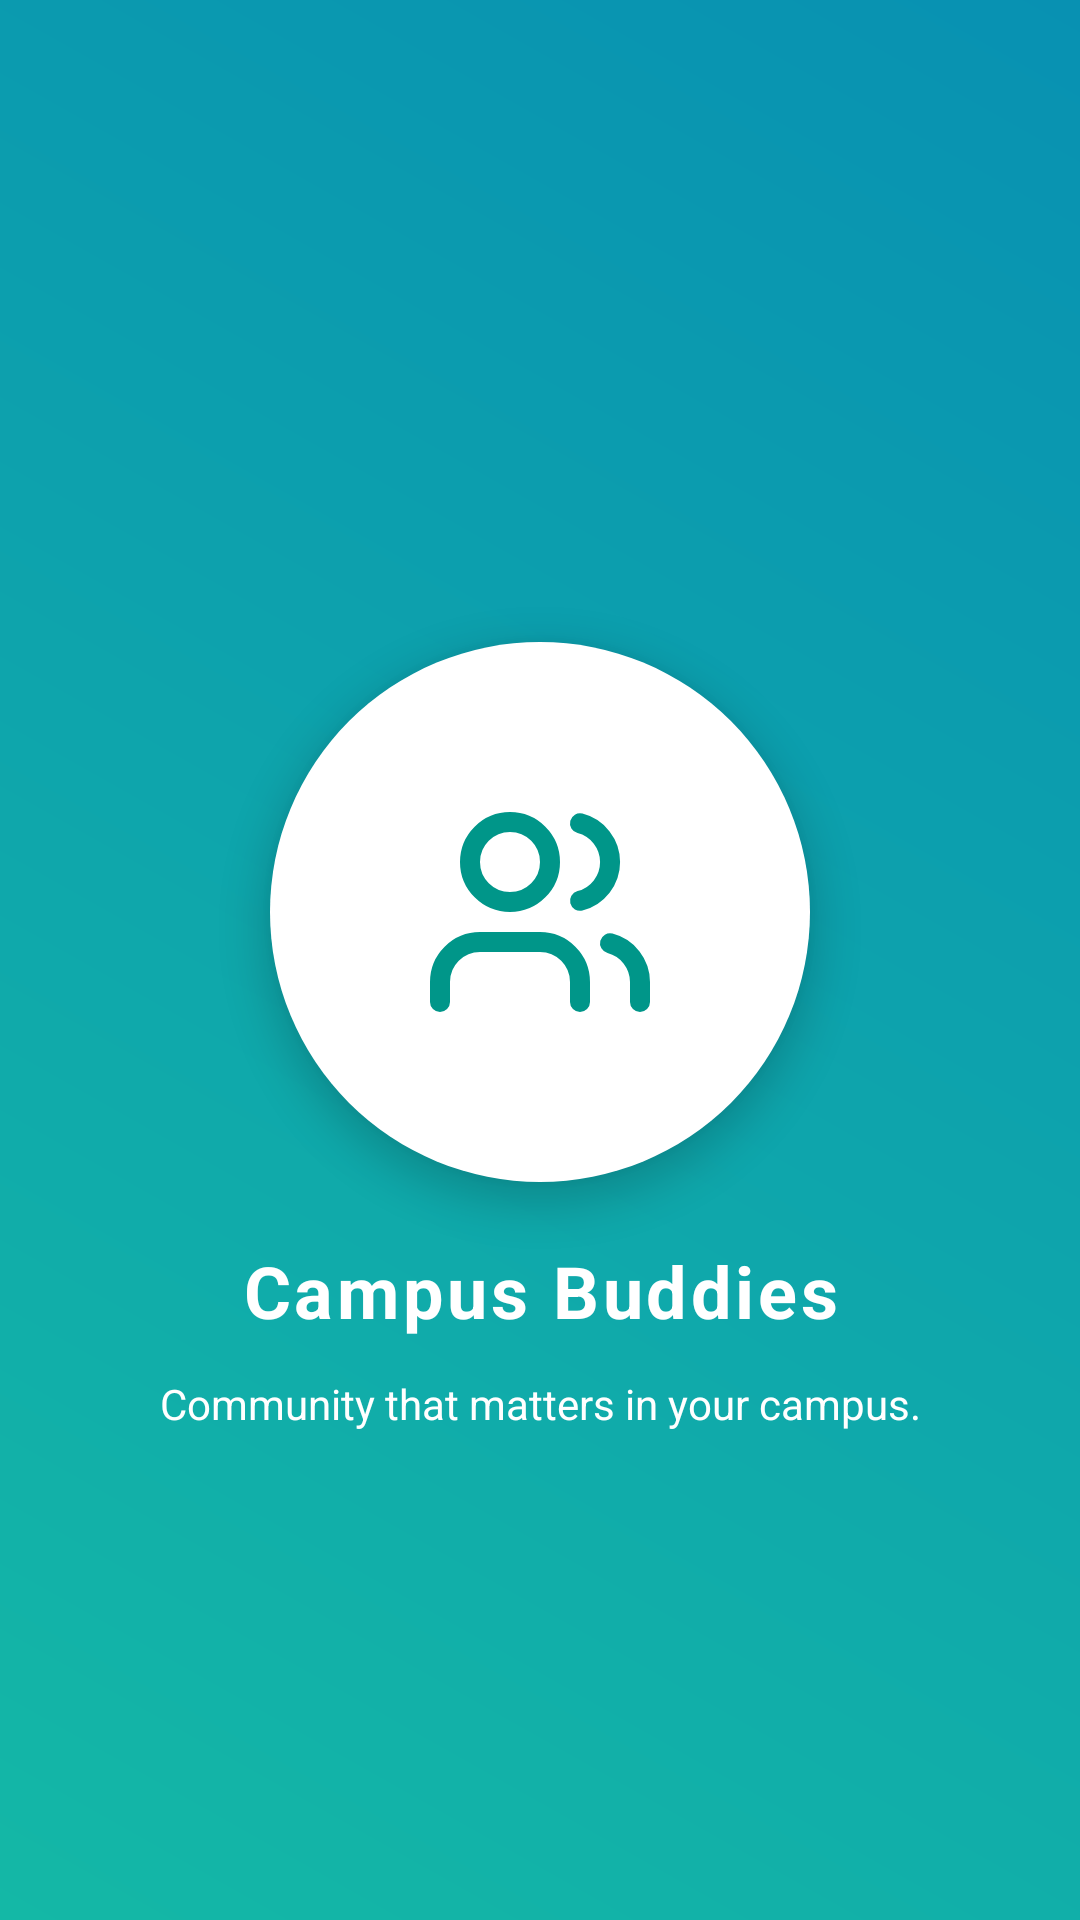

Named icons in this screenshot (1080px x 1920px) and their bounding boxes, (x1, y1, x2, y2):
community: (430, 812, 650, 1012)
